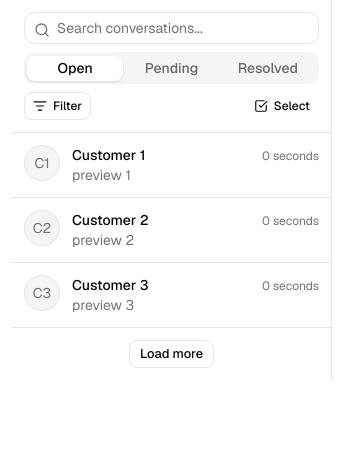
ConversationList › opens a conversation by clicking it normally, but selects instead in select mode
Click the button "Select". click: (282, 106)
box: 245,92 -> 319,120
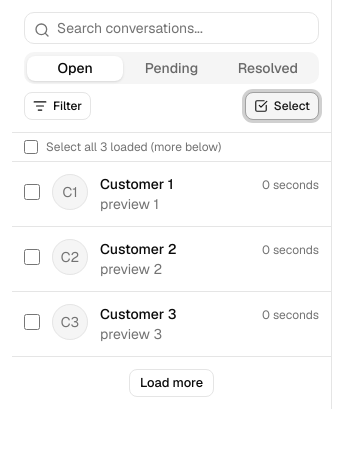
Click the text "Customer 2". click: (138, 249)
box: 100,239 -> 176,259
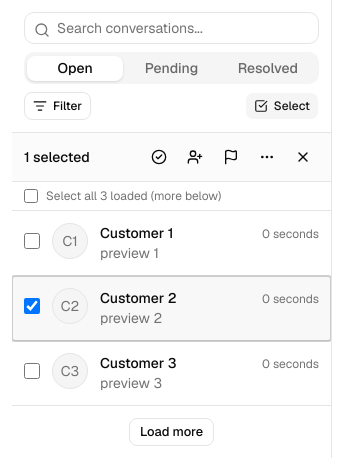
Expected: the checkbox named "Select Customer 1" is not checked, 24,233 -> 40,249
Expected: the text "1 selected" is shown, 24,147 -> 90,167
Expected: the checkbox named "Select Customer 2" is checked, 24,298 -> 40,314
